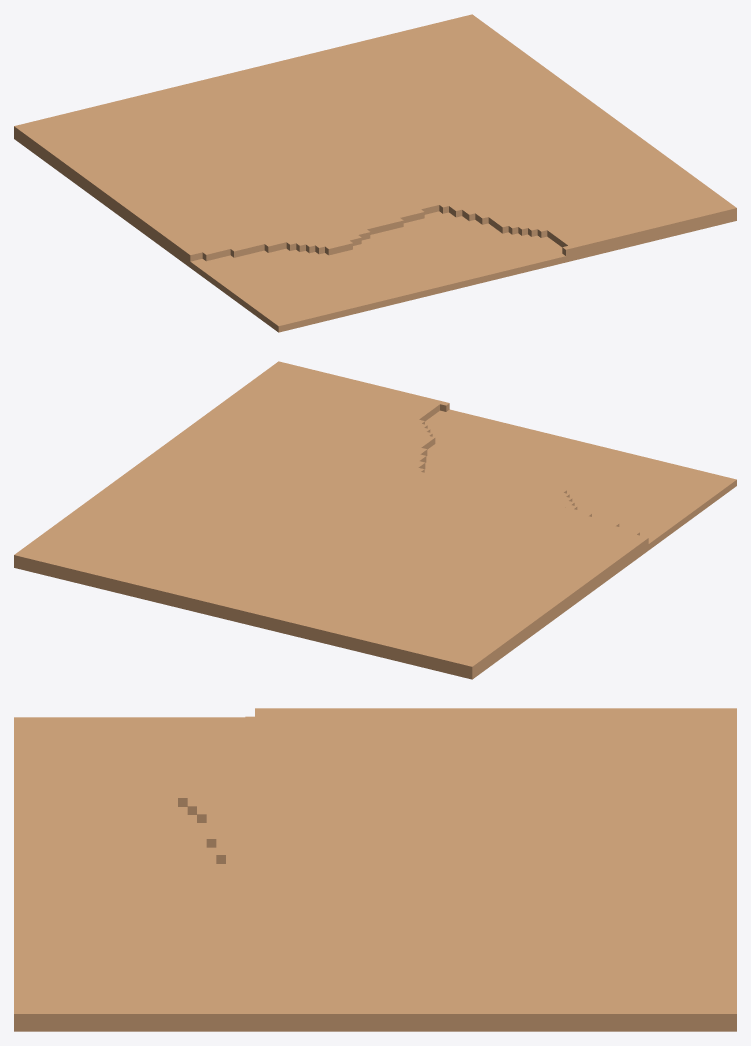
The model's file is sand.fbx.
3 views of the same model, one above another, from view 1: azimuth 30°, elevation 25°; view 2: azimuth 150°, elevation 25°; view 3: azimuth 270°, elevation 25° (orthographic). The views are drawn at different scales.
Visible parts, largest first — view 1: sand_0; view 2: sand_0; view 3: sand_0.
Part boxes in pixels (x1,y1,x2,y2): sand_0: (14,14,736,332); sand_0: (14,361,736,679); sand_0: (14,708,736,1031).
Size of the model in its own units: 7500 by 7500 by 200.
